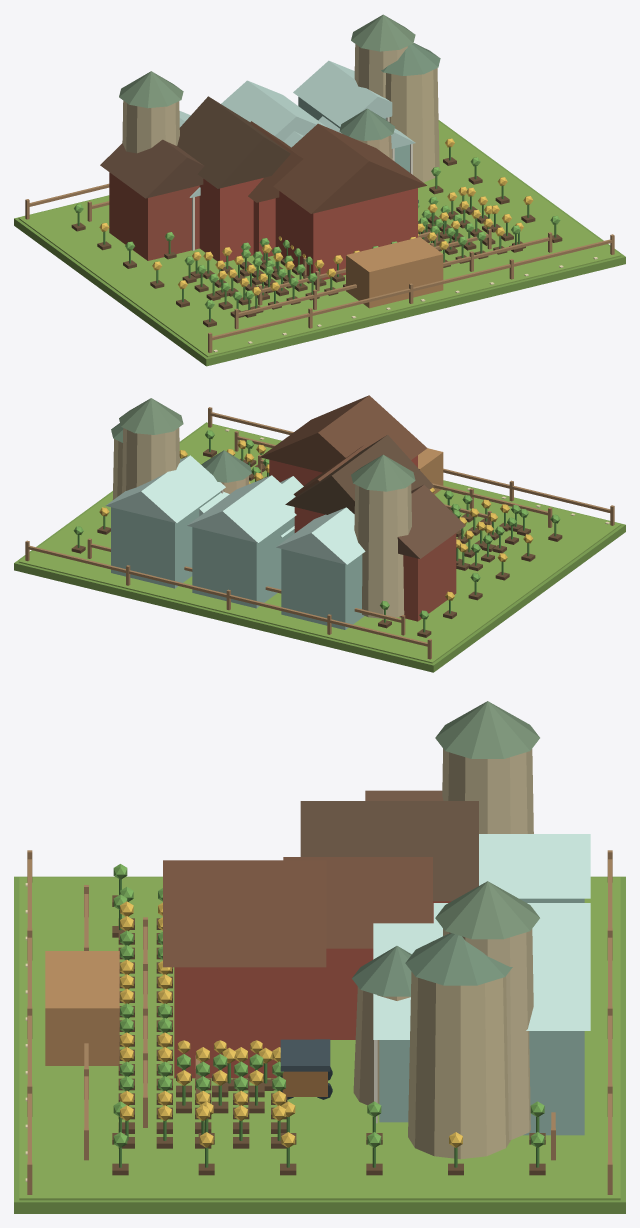
Rendered from farm-lv4.obj.
3 views of the same model, one above another, from view 1: azimuth 30°, elevation 25°; view 2: azimuth 150°, elevation 25°; view 3: azimuth 270°, elevation 25° (orthographic). The views are drawn at different scales.
Parts seen in each view (by area): view 1: farm_1, farm_3, farm_4, farm_20, farm_0, farm_12, farm_24, farm_11, farm_28, farm_8, farm_22, farm_26 (+8 smaller); view 2: farm_1, farm_19, farm_20, farm_26, farm_0, farm_4, farm_11, farm_12, farm_24, farm_27, farm_25, farm_8 (+7 smaller); view 3: farm_1, farm_4, farm_20, farm_22, farm_3, farm_0, farm_12, farm_26, farm_28, farm_19, farm_27, farm_8 (+10 smaller).
Boxes of the visible parts, x1=… form: farm_1: x1=18, y1=122, x2=621, y2=357; farm_3: x1=199, y1=178, x2=417, y2=279; farm_4: x1=248, y1=121, x2=426, y2=213; farm_20: x1=179, y1=60, x2=415, y2=197; farm_0: x1=14, y1=120, x2=625, y2=366; farm_12: x1=177, y1=96, x2=290, y2=188; farm_24: x1=109, y1=172, x2=199, y2=260; farm_11: x1=25, y1=183, x2=614, y2=353; farm_28: x1=346, y1=237, x2=443, y2=308; farm_8: x1=71, y1=157, x2=562, y2=327; farm_22: x1=385, y1=68, x2=439, y2=182; farm_26: x1=122, y1=44, x2=407, y2=153; farm_1: x1=18, y1=423, x2=621, y2=663; farm_19: x1=111, y1=491, x2=364, y2=629; farm_20: x1=105, y1=455, x2=365, y2=564; farm_26: x1=122, y1=427, x2=411, y2=618; farm_0: x1=14, y1=422, x2=625, y2=672; farm_4: x1=260, y1=395, x2=427, y2=496; farm_11: x1=25, y1=407, x2=614, y2=659; farm_12: x1=285, y1=435, x2=434, y2=514; farm_24: x1=399, y1=533, x2=456, y2=621; farm_27: x1=119, y1=398, x2=415, y2=491; farm_25: x1=397, y1=485, x2=465, y2=558; farm_8: x1=71, y1=449, x2=562, y2=637; farm_1: x1=19, y1=877, x2=620, y2=1200; farm_4: x1=163, y1=857, x2=432, y2=967; farm_20: x1=373, y1=834, x2=590, y2=1039; farm_22: x1=408, y1=971, x2=510, y2=1159; farm_3: x1=174, y1=901, x2=450, y2=1078; farm_0: x1=14, y1=876, x2=625, y2=1213; farm_12: x1=300, y1=801, x2=478, y2=901; farm_26: x1=442, y1=748, x2=533, y2=1139; farm_28: x1=45, y1=951, x2=119, y2=1065; farm_19: x1=379, y1=898, x2=584, y2=1135; farm_27: x1=435, y1=701, x2=539, y2=939; farm_8: x1=112, y1=895, x2=545, y2=1175.
Size of the model in its own units: 8.5 by 3.16 by 6.75.
